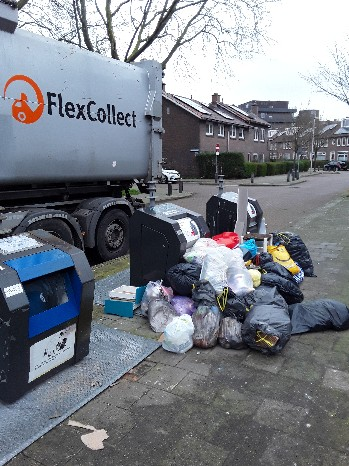Container: (4, 250, 125, 381), (163, 201, 204, 269), (226, 189, 258, 231)
Rest: (209, 232, 279, 295), (148, 266, 235, 314), (148, 288, 192, 353), (270, 225, 318, 276), (226, 240, 287, 280), (179, 313, 247, 344), (300, 298, 349, 337), (252, 301, 296, 341), (131, 274, 157, 320), (256, 278, 343, 287)
Voertuig: (5, 20, 162, 188), (322, 154, 337, 173)
